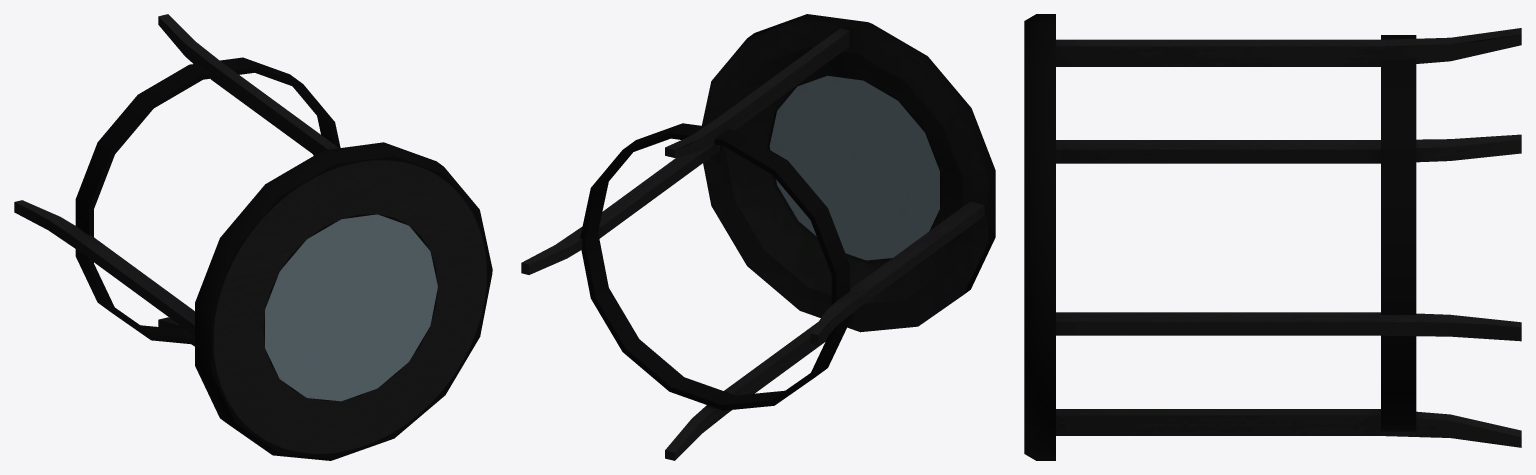
Rendered from dub_lounge_table_03_LOD1.obj.
3 views of the same model, side by side, from view 1: azimuth 30°, elevation 25°; view 2: azimuth 150°, elevation 25°; view 3: azimuth 270°, elevation 25° (orthographic). The views are drawn at different scales.
Visible parts, largest first — view 1: mtl_dub_lounge_table_01_metal, mtl_dub_lounge_table_01_glass; view 2: mtl_dub_lounge_table_01_metal, mtl_dub_lounge_table_01_glass; view 3: mtl_dub_lounge_table_01_metal.
Part boxes in pixels (<box>): mtl_dub_lounge_table_01_metal: <box>14,14,492,460</box>; mtl_dub_lounge_table_01_glass: <box>265,214,437,401</box>; mtl_dub_lounge_table_01_metal: <box>521,14,995,460</box>; mtl_dub_lounge_table_01_glass: <box>769,75,939,260</box>; mtl_dub_lounge_table_01_metal: <box>1024,14,1521,460</box>.
Bounding box in the file's own units: 45.62 × 45.62 × 49.74.
